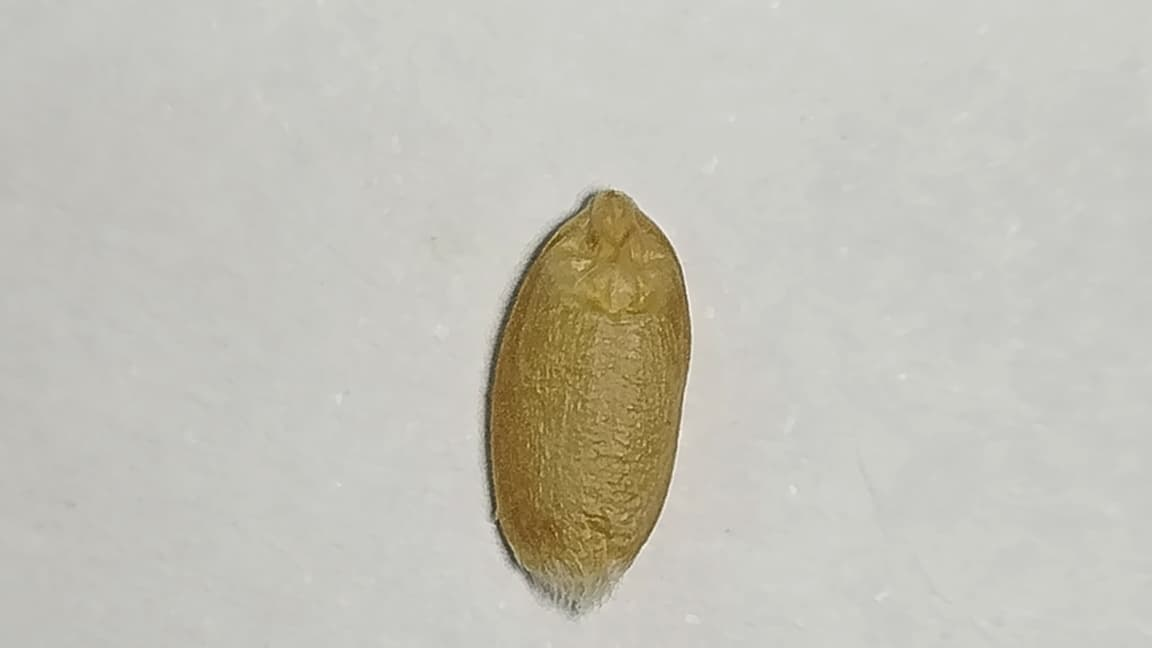healthy: (488, 191, 688, 581)
